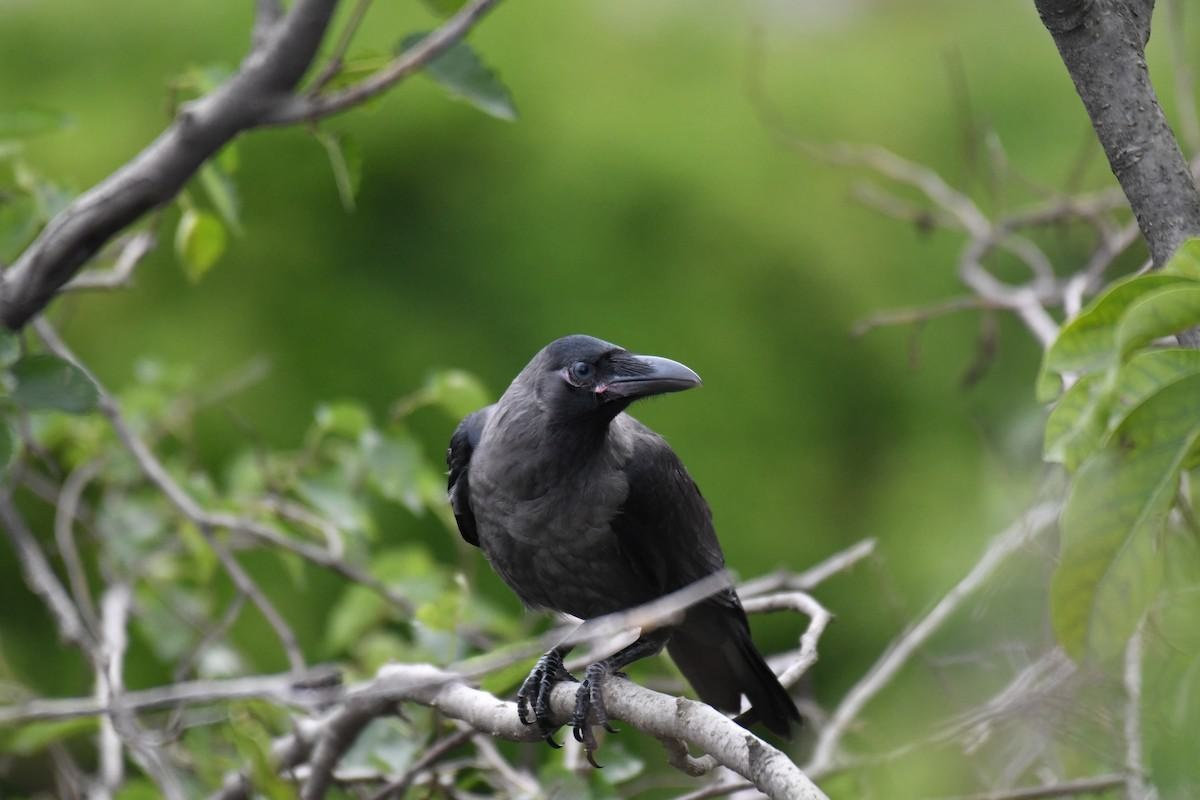crow: (445, 315, 802, 759)
